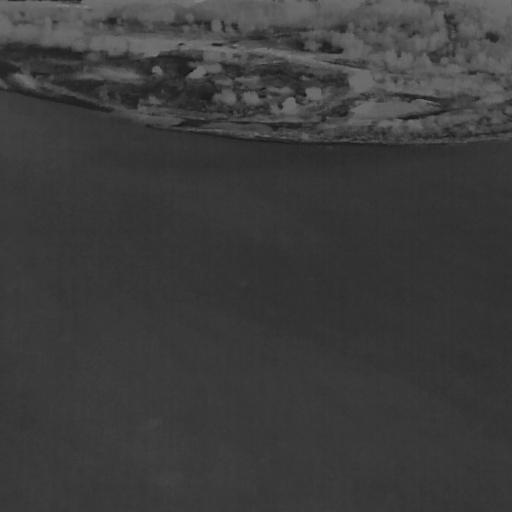uav: (306, 274, 314, 283)
